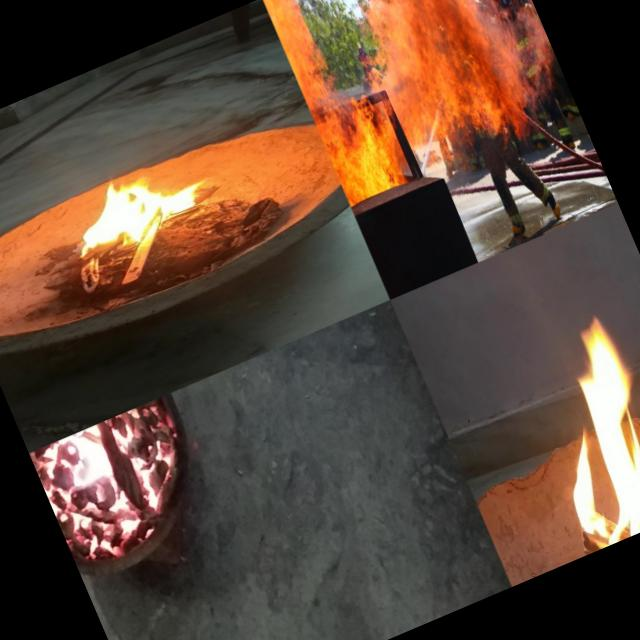fire: (261, 0, 579, 210), (487, 263, 640, 555), (29, 405, 192, 573), (46, 143, 216, 272)
